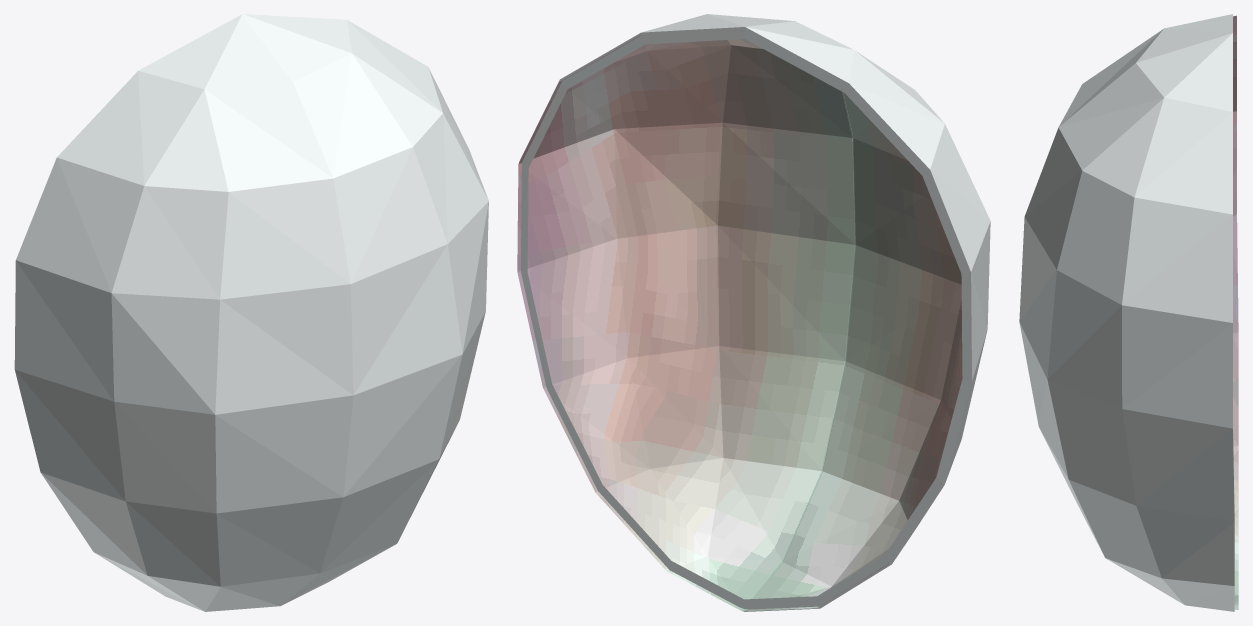
Rendered from couple.glb.
3 views of the same model, side by side, from view 1: azimuth 30°, elevation 25°; view 2: azimuth 150°, elevation 25°; view 3: azimuth 270°, elevation 25° (orthographic). The views are drawn at different scales.
Parts seen in each view (by area): view 1: material-03F838EB; view 2: material-03BA0043, material-03F838EB; view 3: material-03F838EB, material-03BA0043.
Part boxes in pixels (<box>): material-03F838EB: <box>14,14,488,611</box>; material-03BA0043: <box>517,34,962,611</box>; material-03F838EB: <box>519,14,990,611</box>; material-03F838EB: <box>1019,14,1234,611</box>; material-03BA0043: <box>1233,15,1238,609</box>.
Size of the model in its own units: 0.5474 by 0.6732 by 0.2371.
2 materials, 2 textured.
